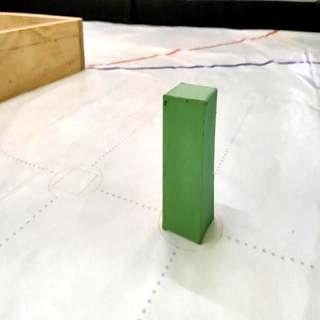greenbox: (160, 81, 220, 246)
